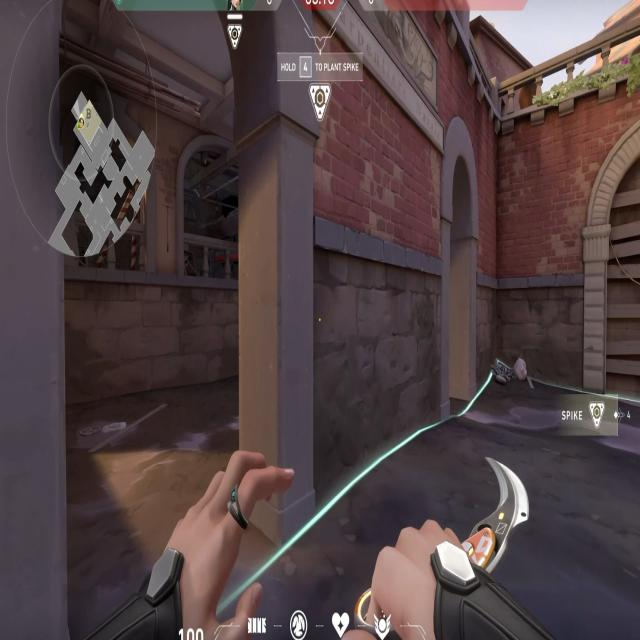B_Boathouse: (2, 0, 314, 640), (440, 103, 485, 429)
